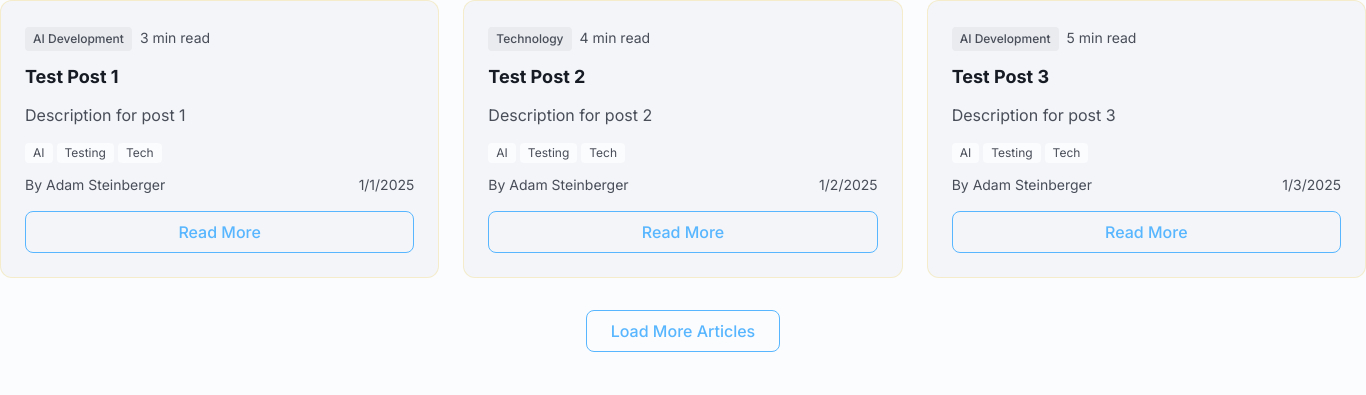
InfiniteScrollBlog › load more functionality › shows loading state when button is clicked
Click the button "Load More Articles" at (683, 331), box [586,310,780,352]
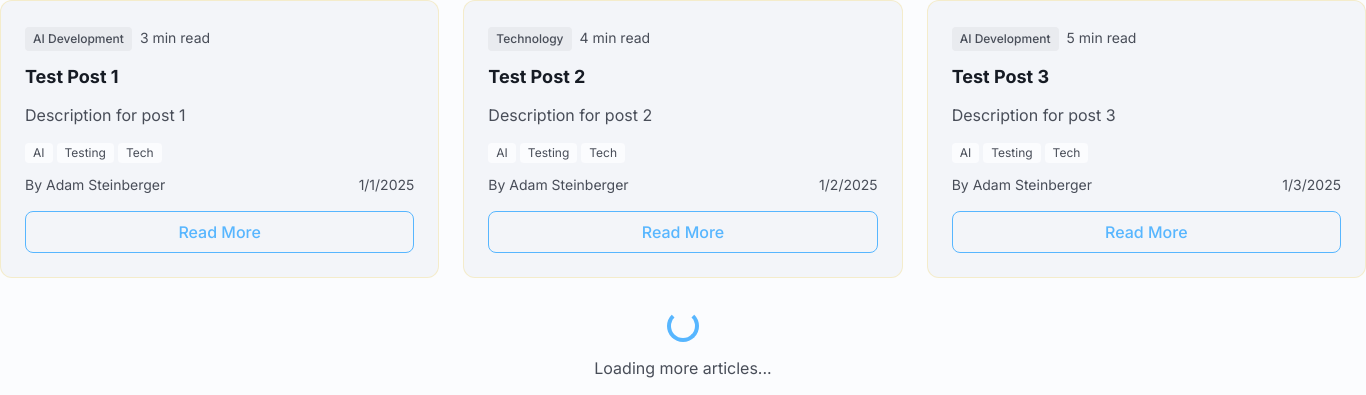
Check: the text "Loading more articles..." is shown, box [594,358,772,378]
